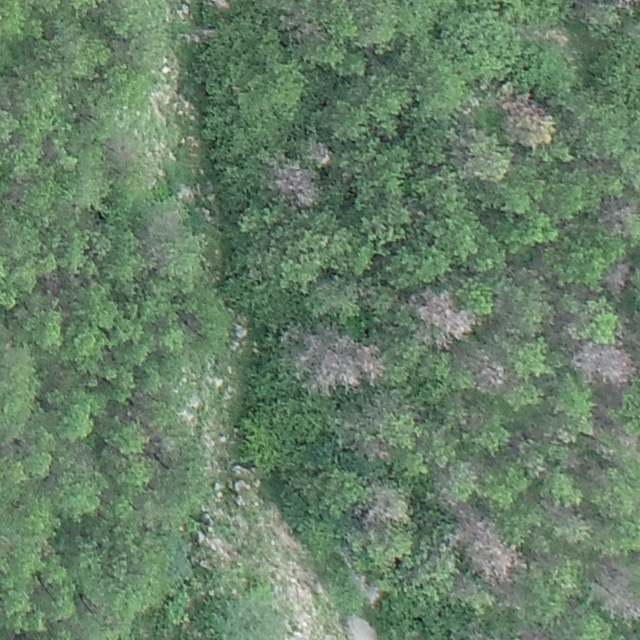unhealthy: (460, 510, 520, 585), (295, 327, 360, 393), (409, 289, 479, 343), (497, 90, 551, 146), (594, 558, 638, 621), (568, 344, 638, 383), (270, 159, 321, 208), (358, 484, 409, 527), (465, 348, 510, 392), (359, 337, 392, 383), (598, 197, 637, 235), (600, 261, 631, 301), (309, 141, 334, 167), (513, 627, 551, 640), (610, 0, 638, 12)
